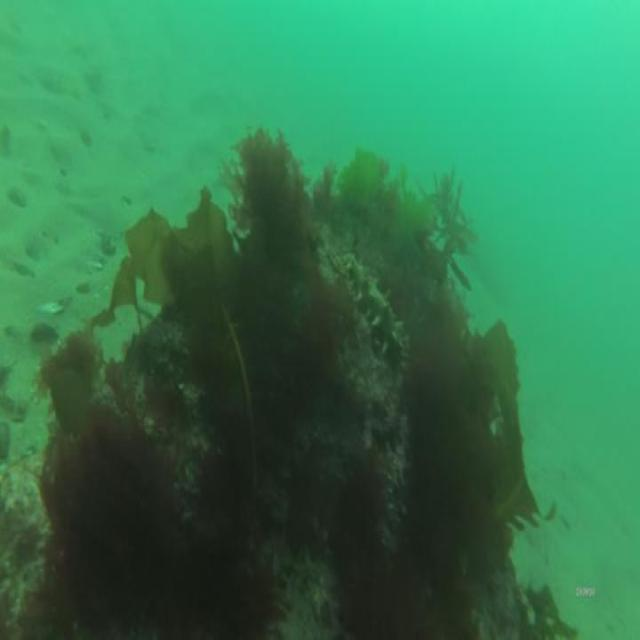holothurian: (344, 248, 409, 364)
waterweeds: (0, 150, 529, 640)
